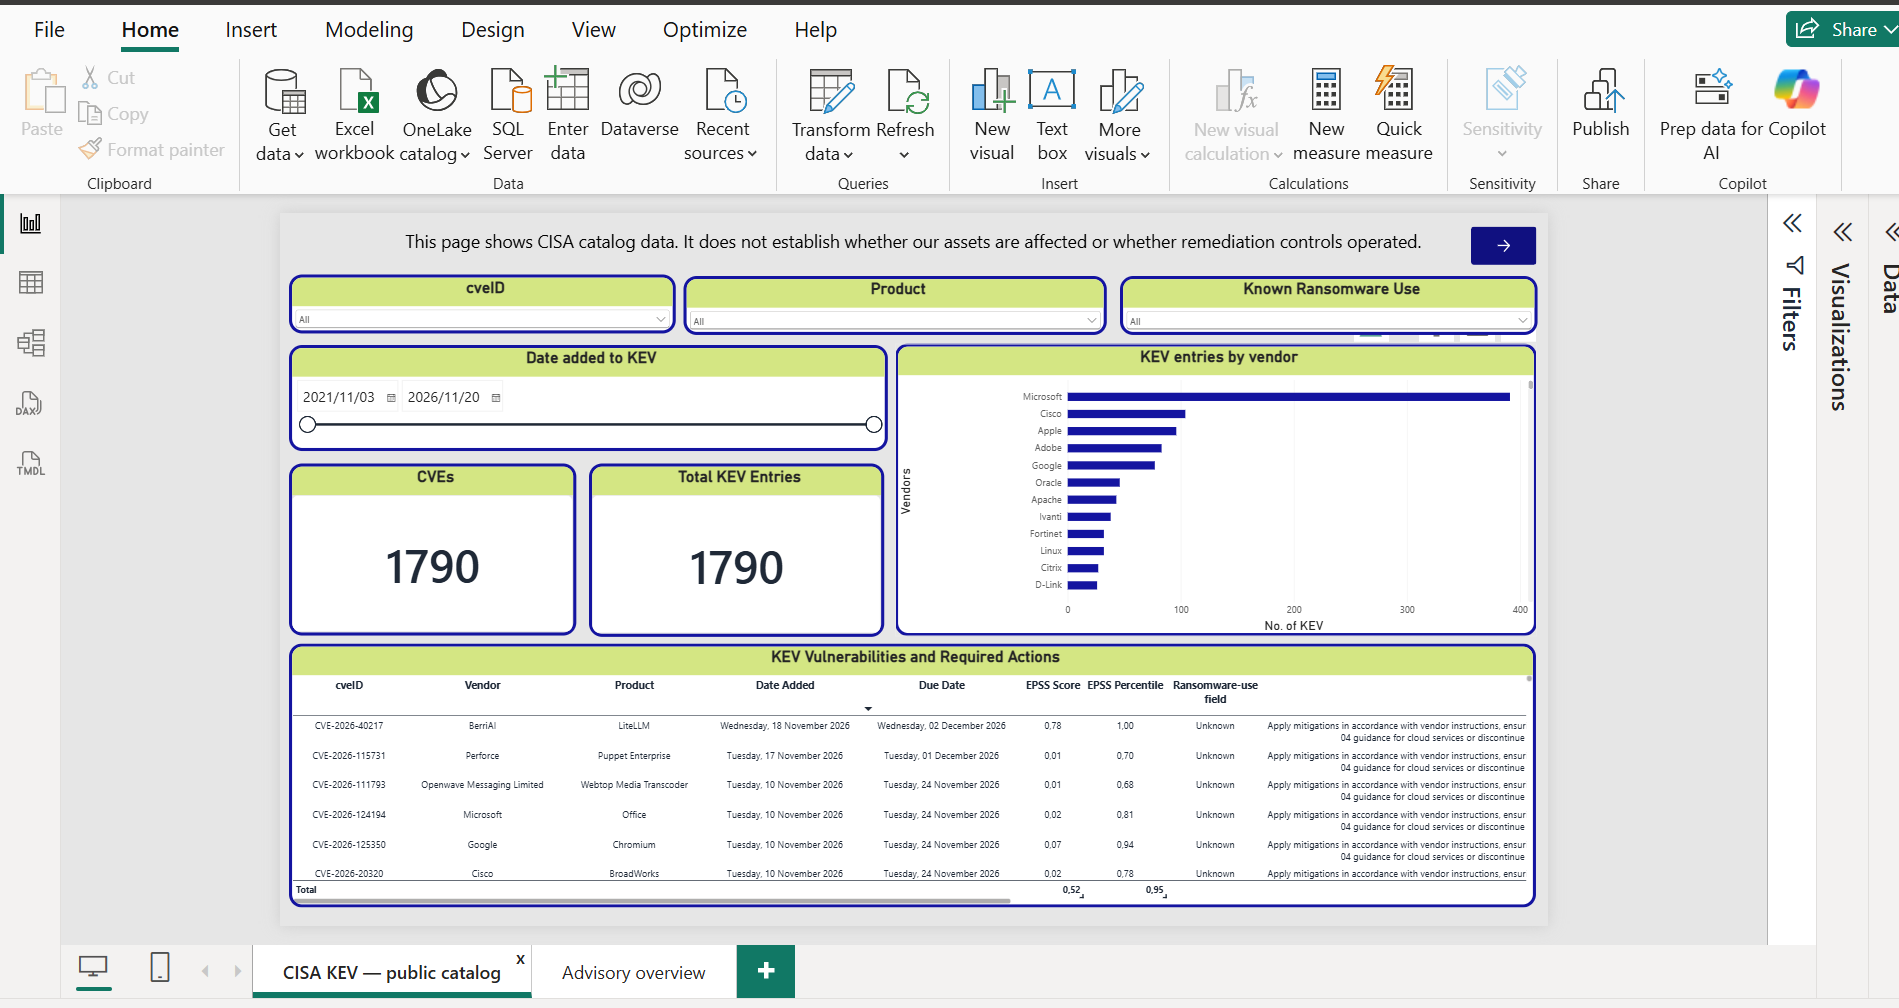

What the dashboard file says about the page in this screenshot:
{"tool":"powerbi","page":{"name":"CISA KEV — public catalog","canvas":[1920,1080],"ordinal":0},"visuals":[{"type":"textbox","box":[0,25.9,1919.1,57.5],"z":0},{"type":"tableEx","title":"KEV Vulnerabilities and Required Actions","fields":{"Values":["known_exploited_vulnerabilities.cveID","known_exploited_vulnerabilities.vendorProject","known_exploited_vulnerabilities.product","known_exploited_vulnerabilities.dateAdded","known_exploited_vulnerabilities.dueDate","known_exploited_vulnerabilities.knownRansomwareCampaignUse","known_exploited_vulnerabilities.requiredAction"]},"box":[14.4,667.5,1890.3,399.9],"z":1000},{"type":"cardVisual","title":"Total KEV Entries","fields":{"Data":["CountNonNull(known_exploited_vulnerabilities.vulnerabilityName)"]},"box":[473.4,391.2,447.9,260.8],"z":2000},{"type":"clusteredBarChart","title":"KEV Entries by Vendor","fields":{"Category":["known_exploited_vulnerabilities.vendorProject"],"Y":["CountNonNull(known_exploited_vulnerabilities.cveID)"]},"box":[932.2,198.5,972.5,454.6],"z":3000},{"type":"slicer","title":"Date Added","fields":{"Values":["known_exploited_vulnerabilities.dateAdded"]},"box":[14.4,198.5,906.3,178.4],"z":4000},{"type":"slicer","title":"Known Ransomware Use","fields":{"Values":["known_exploited_vulnerabilities.knownRansomwareCampaignUse"]},"box":[1271.7,94.9,633,89.2],"z":5000},{"type":"slicer","title":"cveID","fields":{"Values":["known_exploited_vulnerabilities.cveID"]},"box":[14.4,94.9,586.9,89.2],"z":6000},{"type":"slicer","title":"Product","fields":{"Values":["known_exploited_vulnerabilities.product"]},"box":[615.7,94.9,641.6,89.2],"z":7000},{"type":"cardVisual","title":"No. of Products","fields":{"Data":["Count(known_exploited_vulnerabilities.product)"]},"box":[14.4,391.3,443.1,261.8],"z":8000}]}

Visuals, with their boxes on the page's 1920x1080 design canvas (x1, y1, x2, y2). These are canvas units, not pixel positions in the 1899x1008 screenshot, which may show the page scaled, cropped or inside an application window:
textbox: bbox=(0, 26, 1919, 83)
"KEV Vulnerabilities and Required Actions" tableEx: bbox=(14, 668, 1905, 1067)
"Total KEV Entries" cardVisual: bbox=(473, 391, 921, 652)
"KEV Entries by Vendor" clusteredBarChart: bbox=(932, 198, 1905, 653)
"Date Added" slicer: bbox=(14, 198, 921, 377)
"Known Ransomware Use" slicer: bbox=(1272, 95, 1905, 184)
"cveID" slicer: bbox=(14, 95, 601, 184)
"Product" slicer: bbox=(616, 95, 1257, 184)
"No. of Products" cardVisual: bbox=(14, 391, 458, 653)
